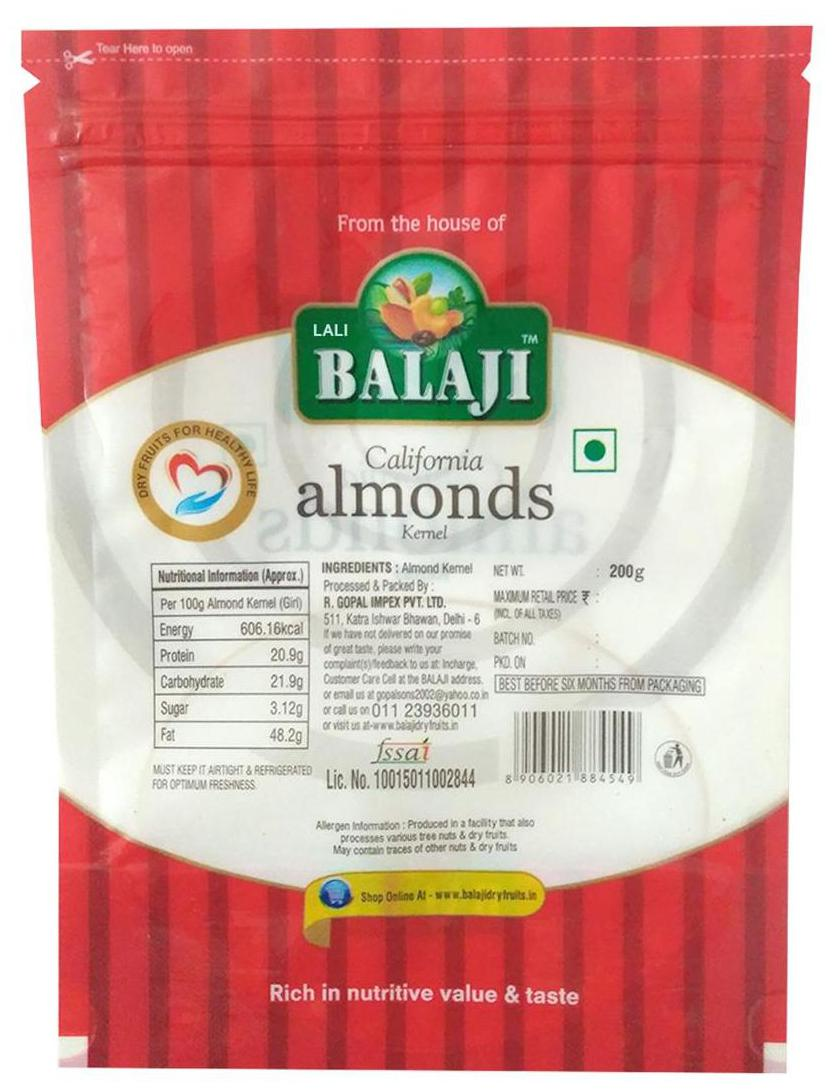fssai: (369, 737, 432, 763)
